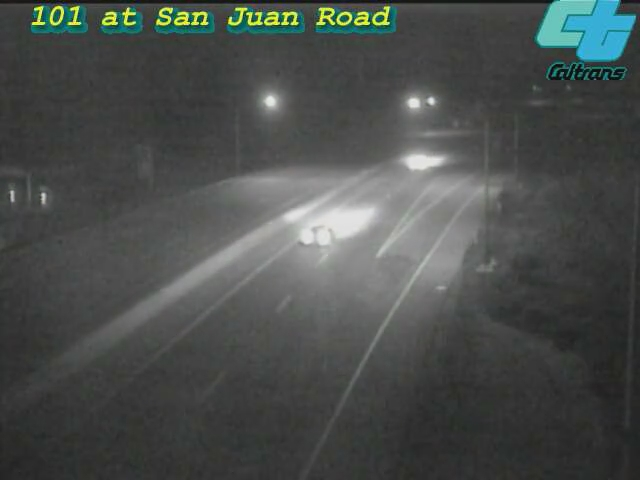vehicle: (377, 122, 457, 202), (275, 199, 355, 279)
